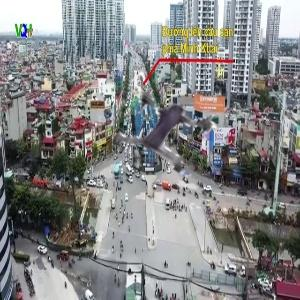drone: (106, 63, 229, 186)
